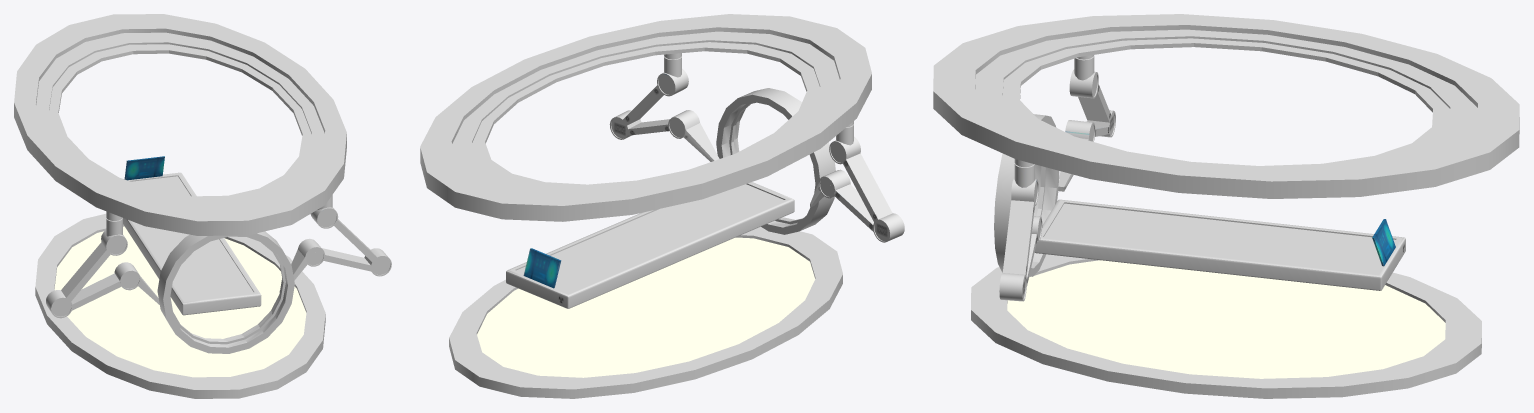
Rendered from only ct scan.fbx.
3 renders of one model, left to right at view 1: azimuth 30°, elevation 25°; view 2: azimuth 150°, elevation 25°; view 3: azimuth 270°, elevation 25°, orthographic. The views are drawn at different scales.
Visible parts, largest first — view 1: city_123:pasted__pCylinder11; view 2: city_123:pasted__pCylinder11; view 3: city_123:pasted__pCylinder11.
Boxes of the visible parts, box(x1,y1,x2,y2) form: city_123:pasted__pCylinder11: box(14, 14, 391, 398); city_123:pasted__pCylinder11: box(420, 14, 904, 398); city_123:pasted__pCylinder11: box(933, 14, 1519, 398).
Size of the model in its own units: 665 by 369 by 860.
Materials: 2 (1 with a texture image).
